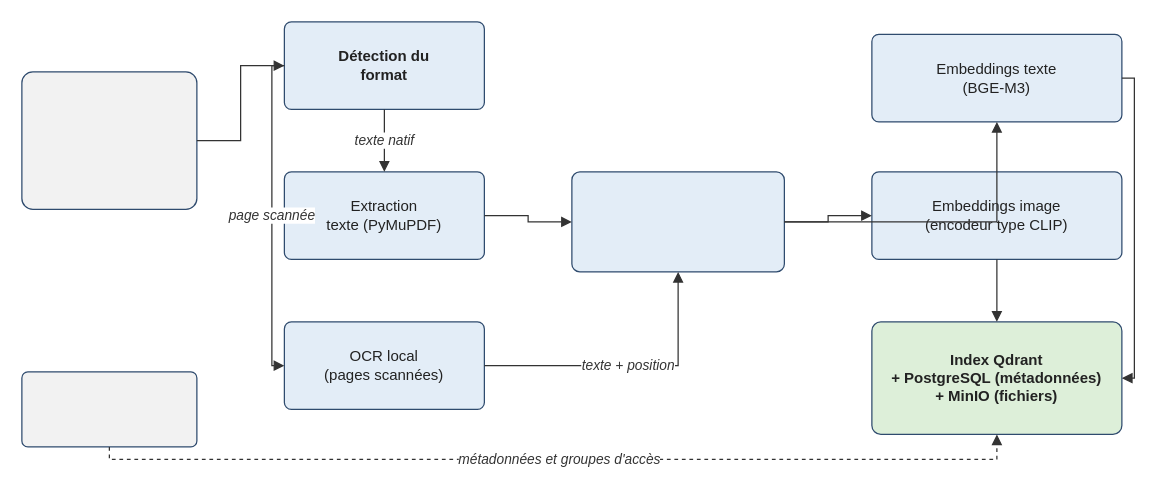
This 1166x491 diagram has some shape labels left out. Each missing label, with the box of its shape:
Découpage passages, tableaux, figures: (571, 171, 784, 272)
inventaire.csv: (21, 371, 197, 447)
PDF texte PDF scanné Image: (21, 71, 197, 209)
